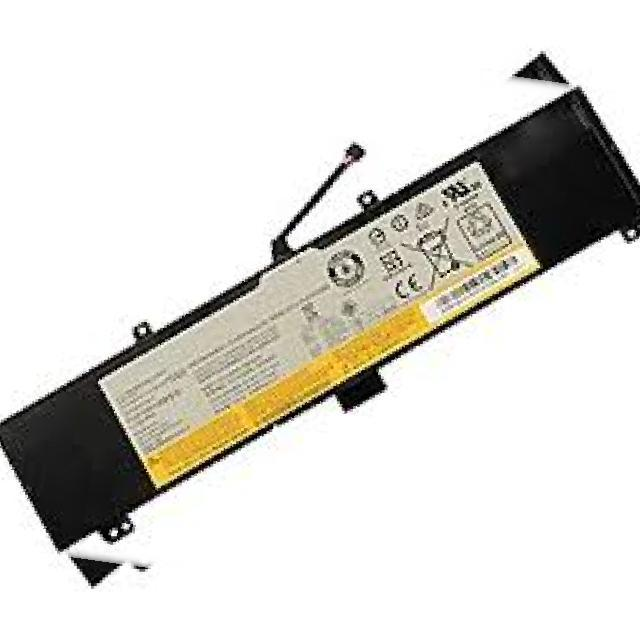Battery: (5, 82, 640, 548)
